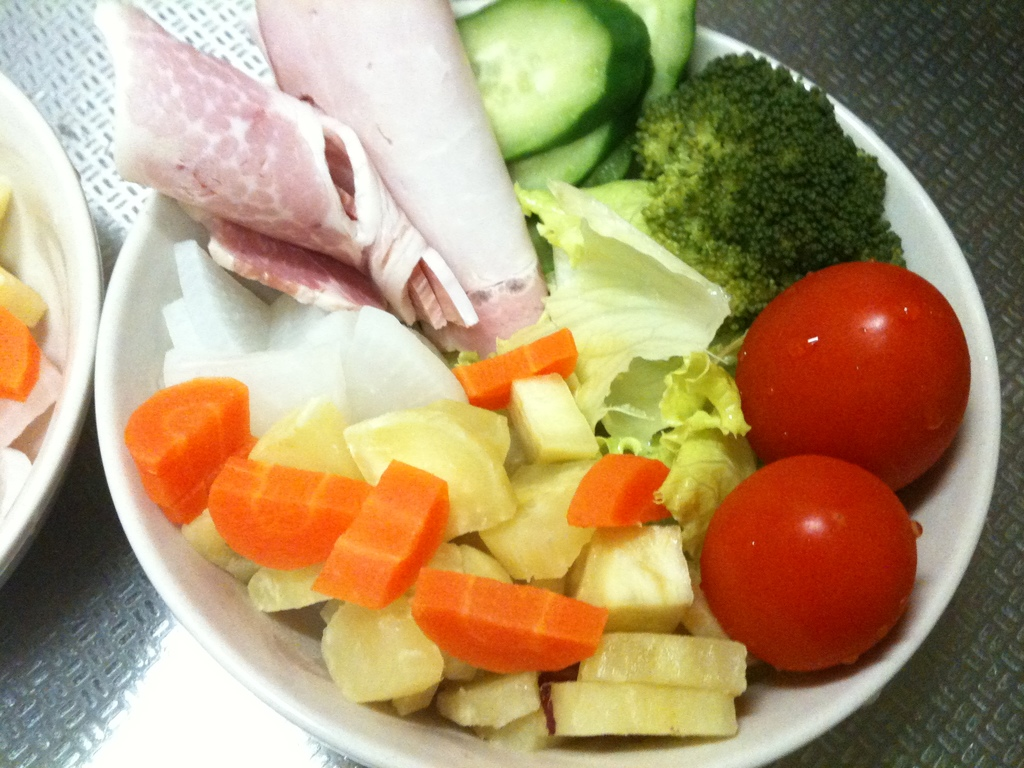Tomato: (739, 261, 968, 485), (699, 446, 924, 672)
